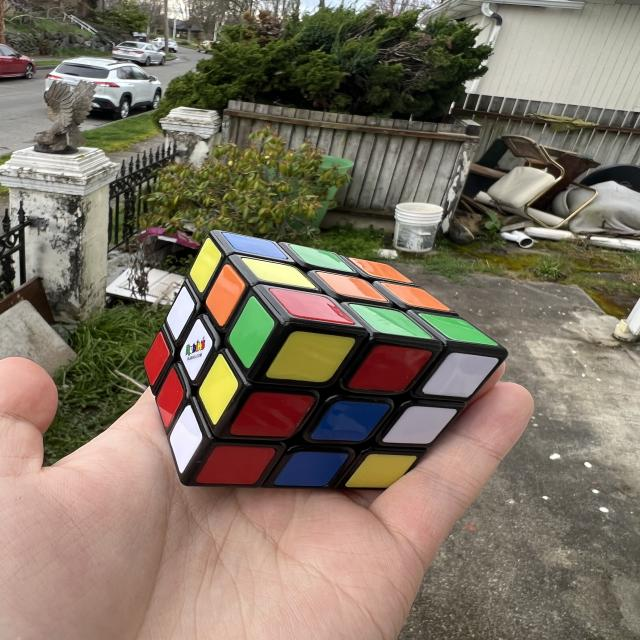blue: (272, 450, 349, 488), (218, 229, 291, 262)
center: (311, 398, 390, 444), (171, 317, 222, 381), (313, 271, 391, 303)
green: (217, 295, 283, 369), (345, 303, 434, 340), (415, 312, 501, 348), (287, 244, 358, 275)
orange: (197, 263, 252, 327), (377, 281, 453, 313), (346, 257, 413, 284)
red: (347, 341, 433, 397), (229, 389, 315, 442), (265, 285, 359, 328), (195, 444, 275, 487), (147, 367, 193, 428), (134, 331, 178, 387)
white: (420, 333, 500, 417), (156, 403, 214, 475), (383, 404, 457, 448), (159, 286, 201, 340)
yellow: (266, 328, 355, 387), (185, 353, 249, 425), (237, 256, 319, 290), (345, 453, 416, 488), (183, 237, 227, 293)
